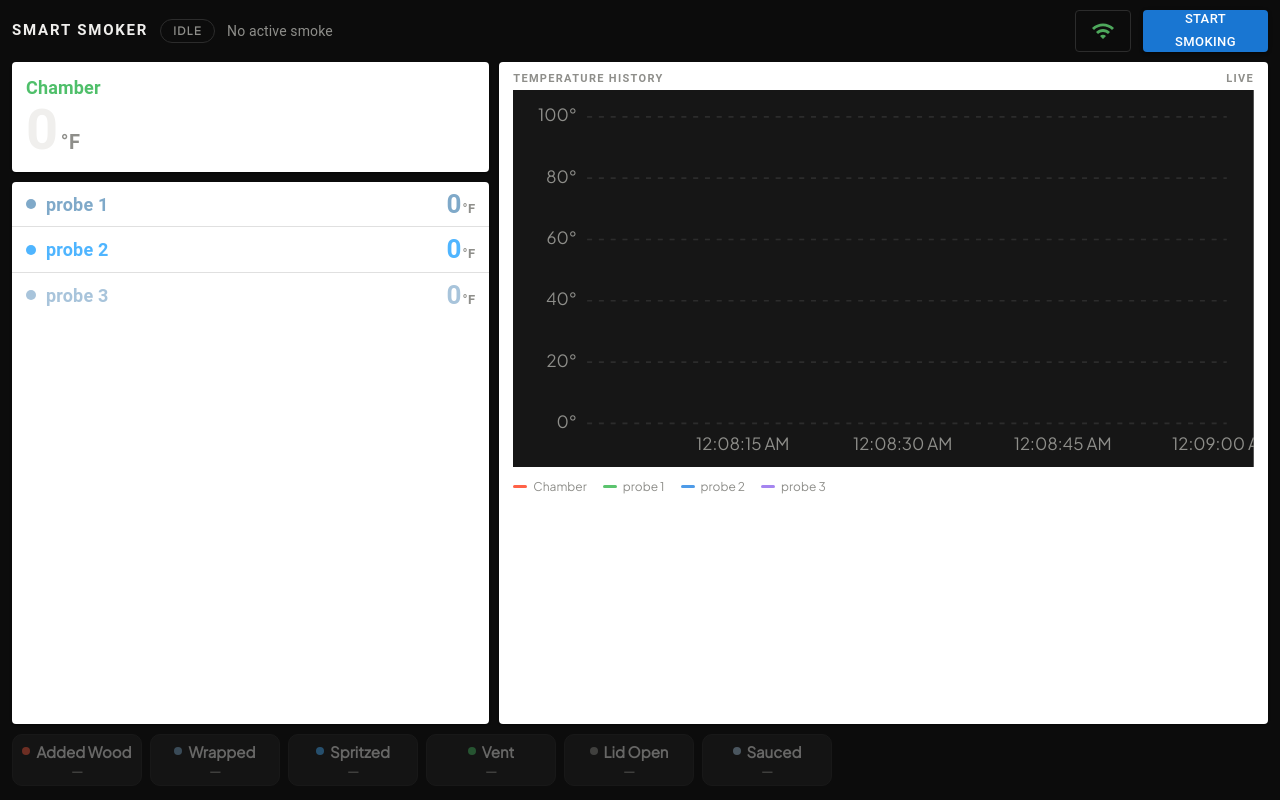
Scenario: Home (smoker session host) › starts smoking on the button press and broadcasts the agreed smoke update
Click the button with test id "smoker-start-button".
click(1206, 31)  # box [1143,10,1268,52]
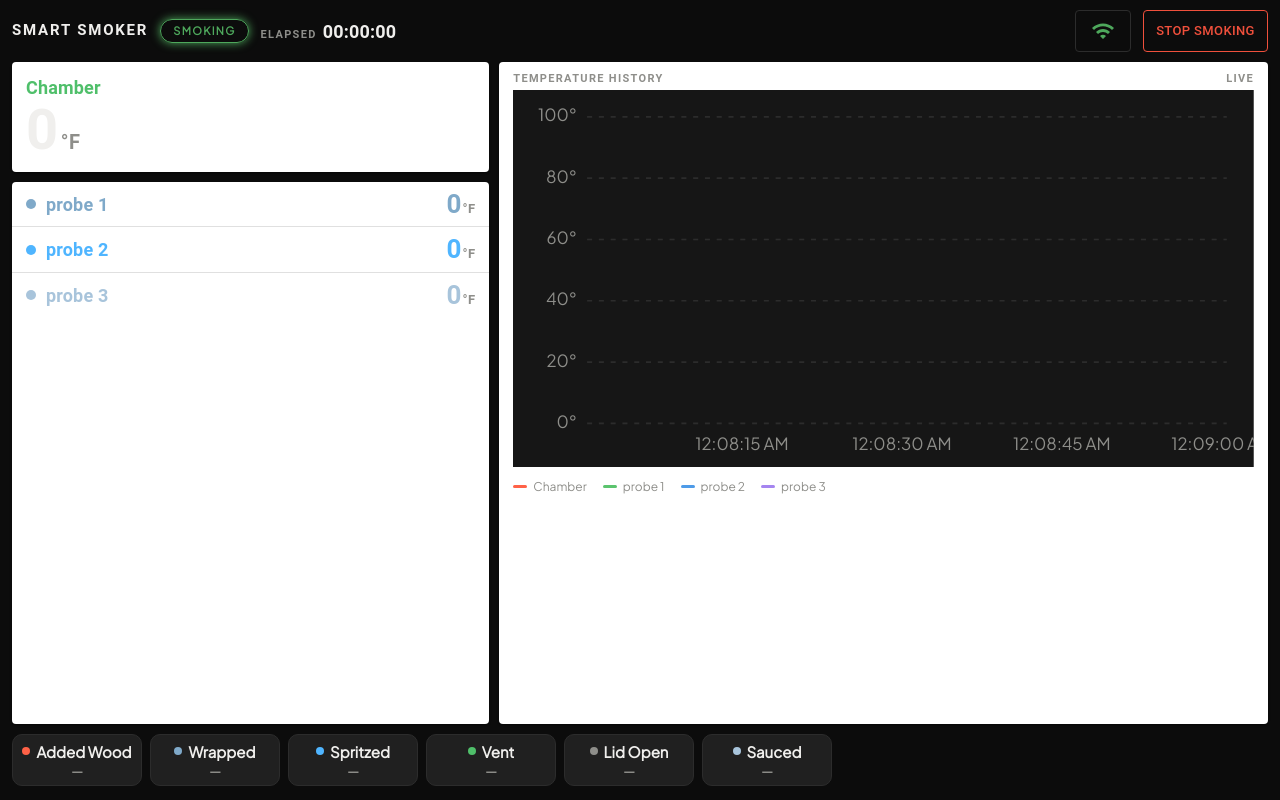
Expected: the button "Stop Smoking" is shown, [1143,10,1268,52]
